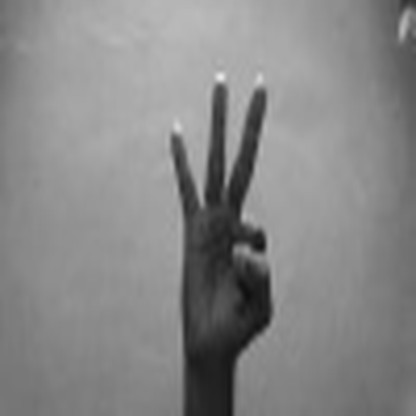f: (159, 65, 286, 369)
